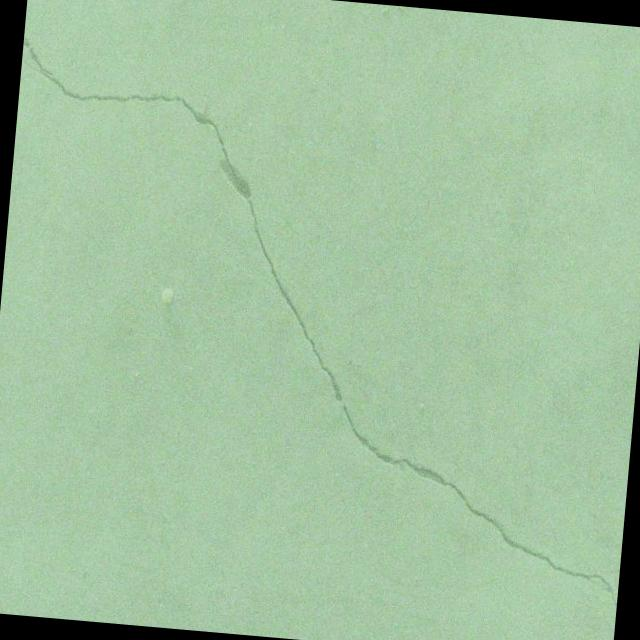crack: (0, 33, 640, 607), (605, 566, 620, 576)
